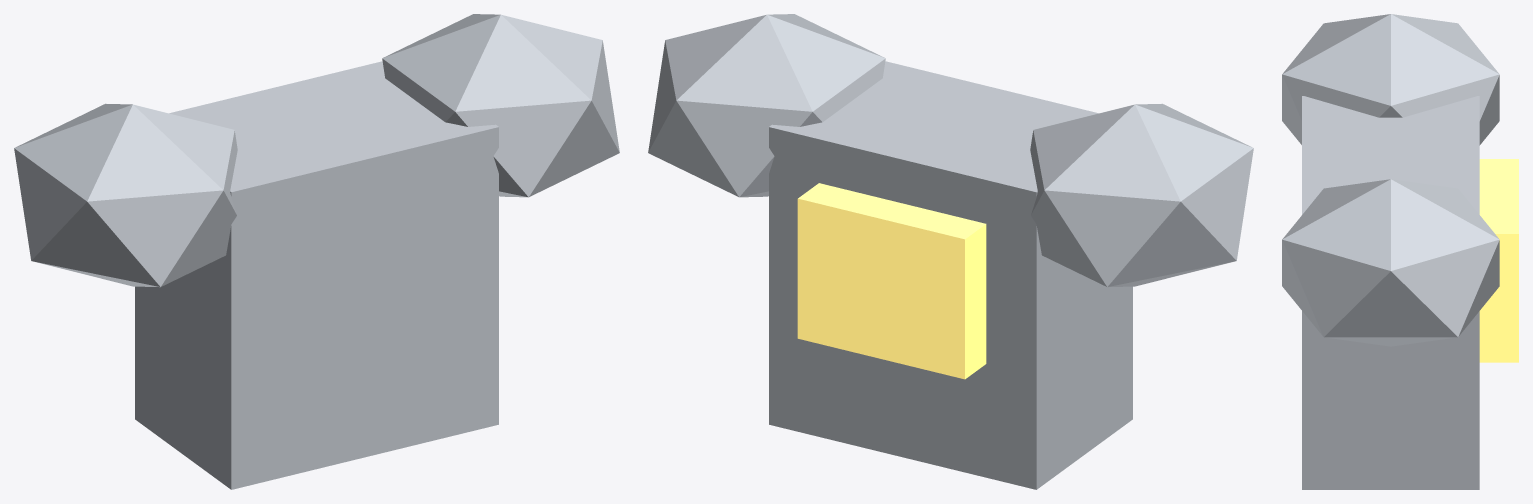
File: armor.glb
3 views of the same model, side by side, from view 1: azimuth 30°, elevation 25°; view 2: azimuth 150°, elevation 25°; view 3: azimuth 270°, elevation 25° (orthographic). The views are drawn at different scales.
Visible parts, largest first — view 1: ArmorTorso; view 2: ArmorTorso; view 3: ArmorTorso.
Part boxes in pixels (box(x1,y1,x2,y2)): ArmorTorso: box(14, 14, 619, 489); ArmorTorso: box(648, 14, 1253, 489); ArmorTorso: box(1282, 14, 1518, 489).
Size of the model in its own units: 1.71 by 1.04 by 0.6662.
